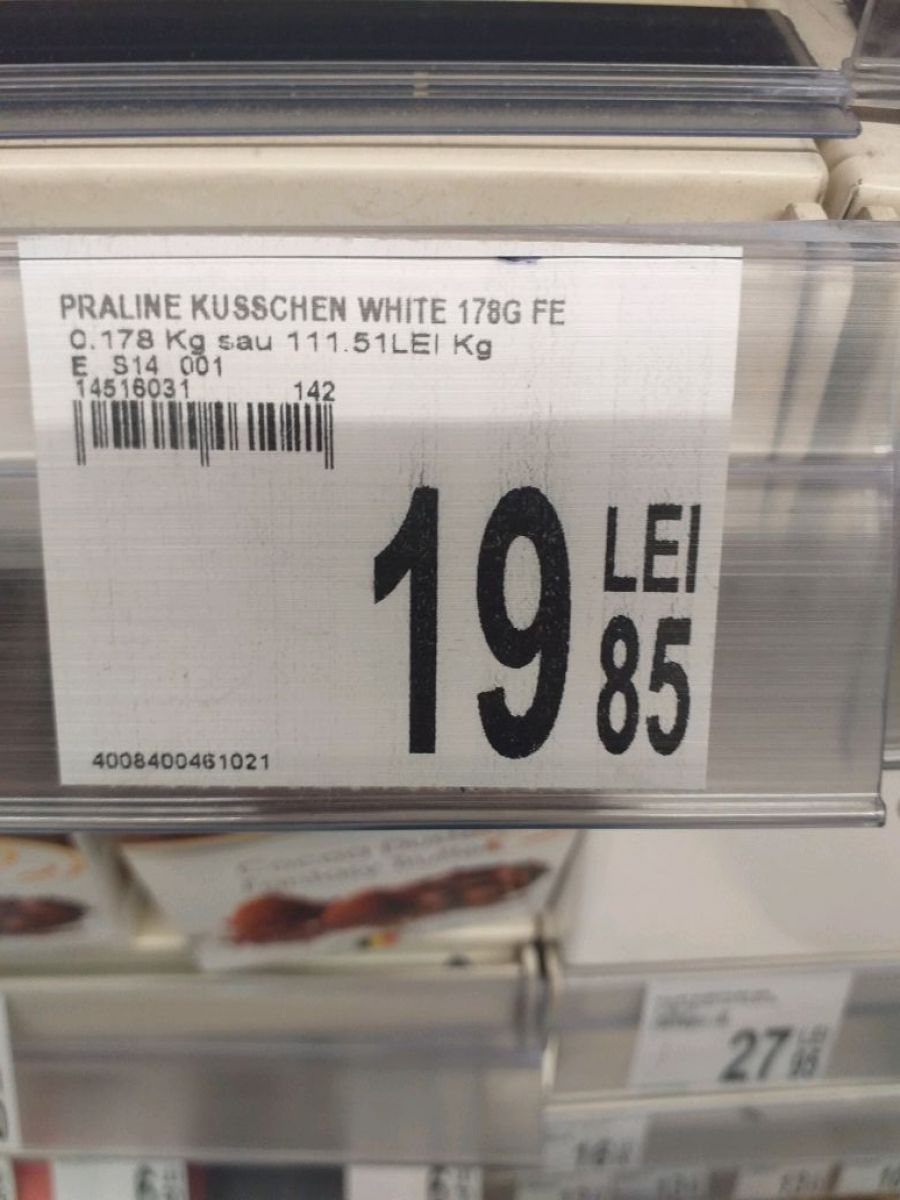price_bani: (585, 604, 708, 765)
price_lei: (350, 470, 586, 771)
price_tag: (1, 211, 775, 837)
product_id: (76, 742, 285, 780)
product_name: (43, 278, 586, 328)
